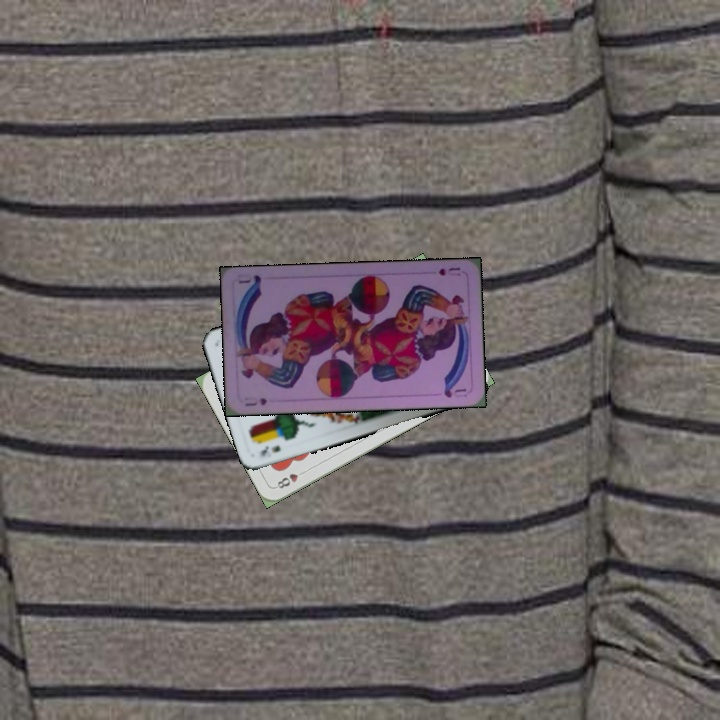EK: (256, 441, 283, 459)
H8: (272, 466, 309, 491)
SU: (240, 393, 269, 409), (434, 263, 463, 278)
